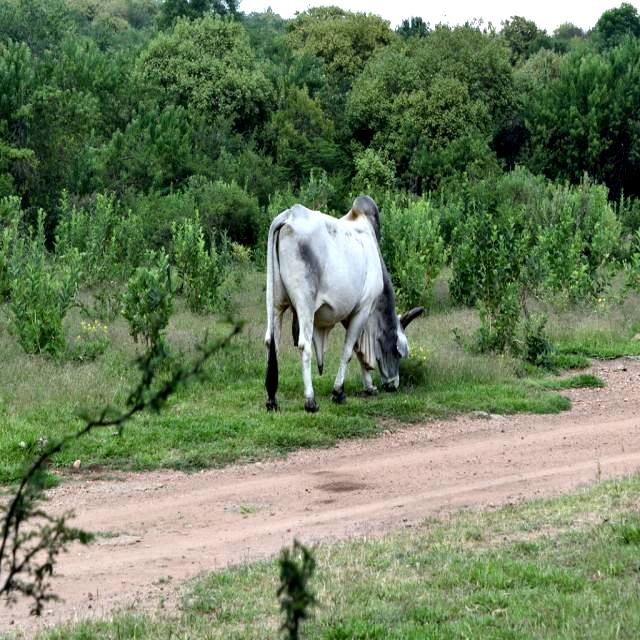COW: (266, 196, 422, 411)
